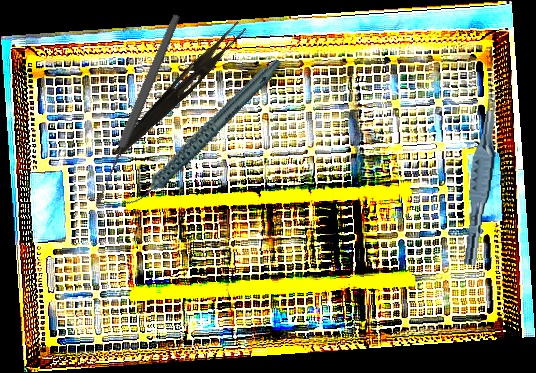Dressing Forceps: (112, 16, 248, 163)
Handpiece: (99, 57, 306, 211)
Surgical Spoon: (91, 11, 183, 207)
Tissue Forceps: (463, 92, 501, 267)
